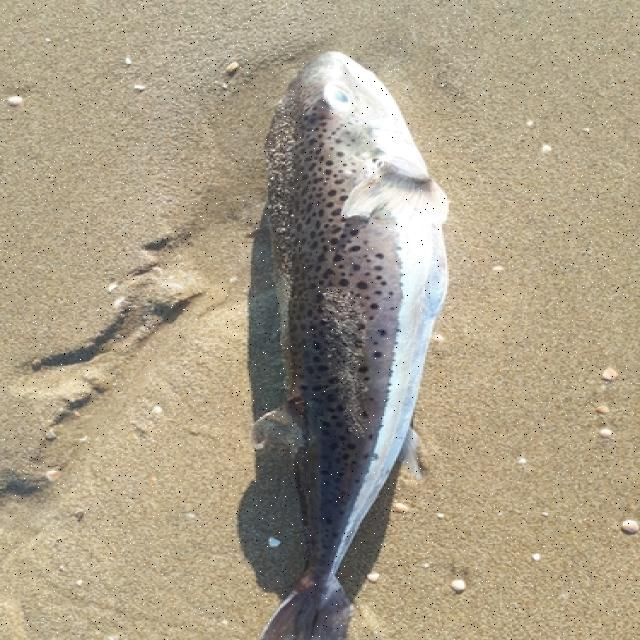Balik: (255, 53, 447, 639)
